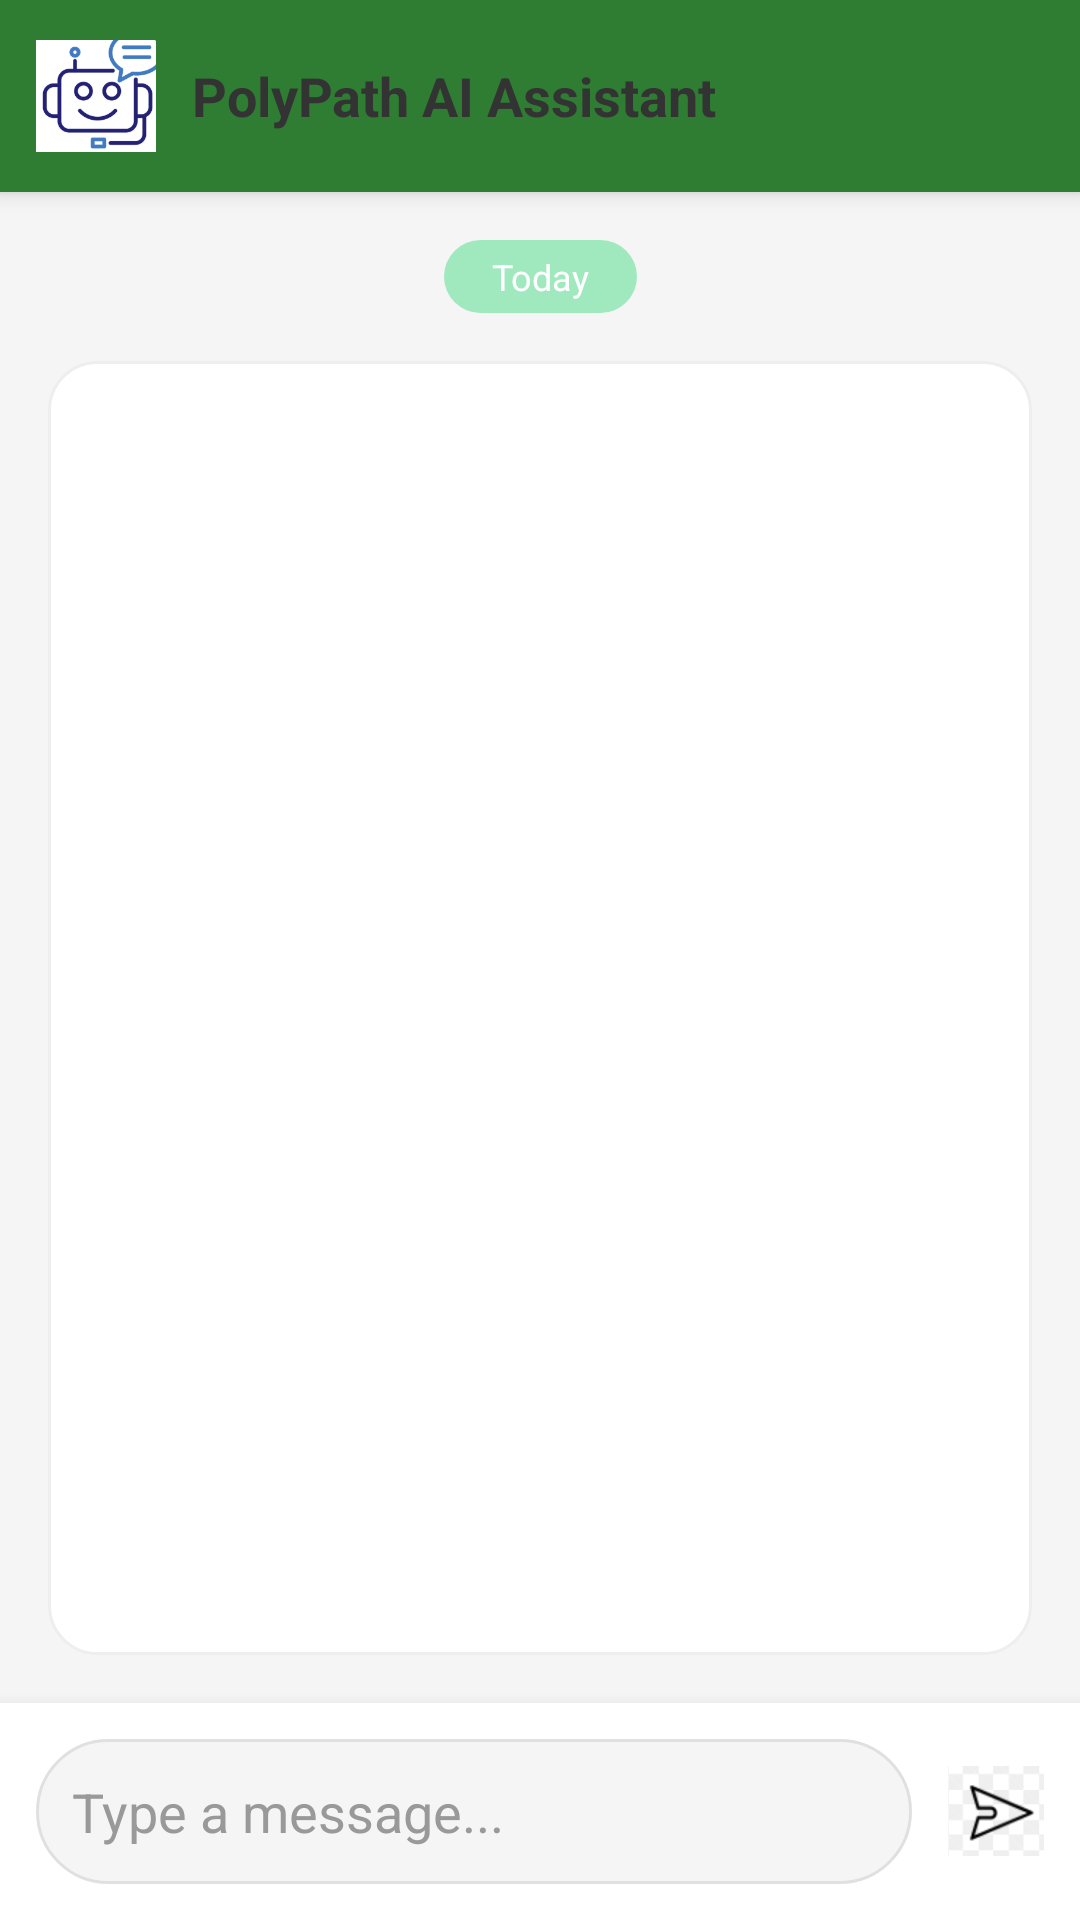

Named icons in this screenshot (1080px×1920px) and their bounding boxes, Rect(x1, y1, x2, y2):
send: Rect(969, 1785, 1034, 1841)
